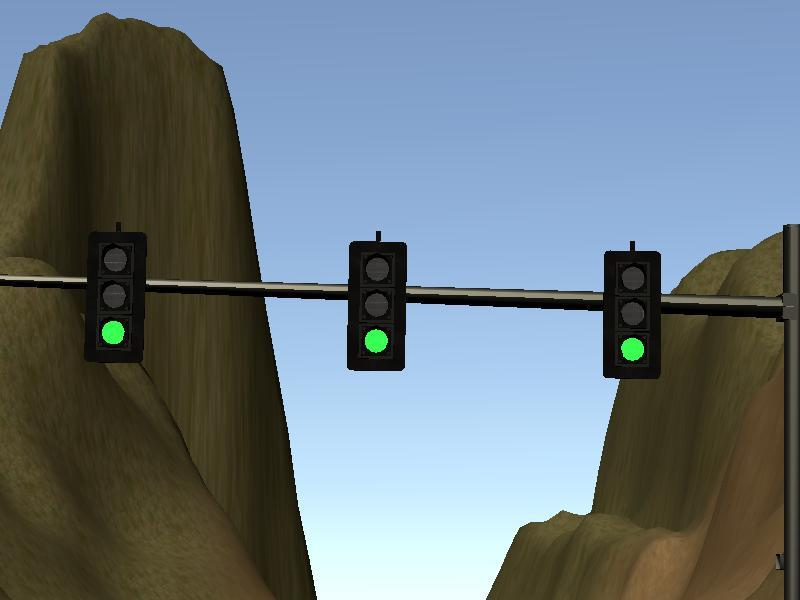Green: (604, 250, 659, 377), (89, 232, 143, 360), (352, 243, 405, 367)
